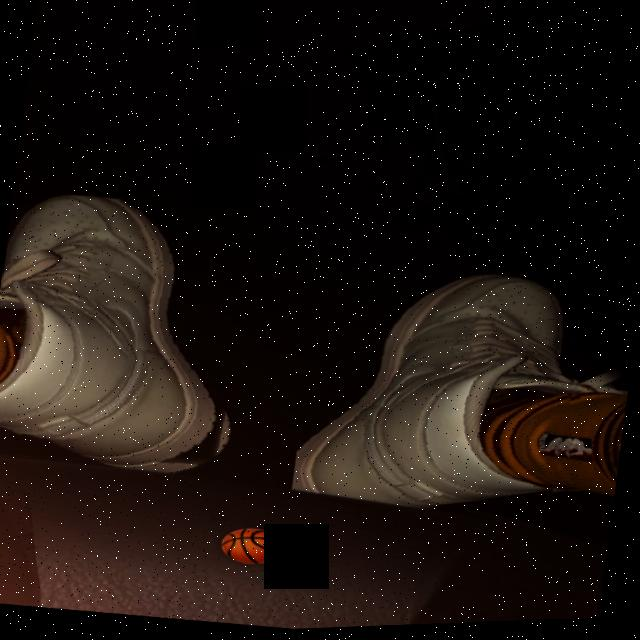shoe: (291, 251, 594, 534), (0, 182, 268, 486)
